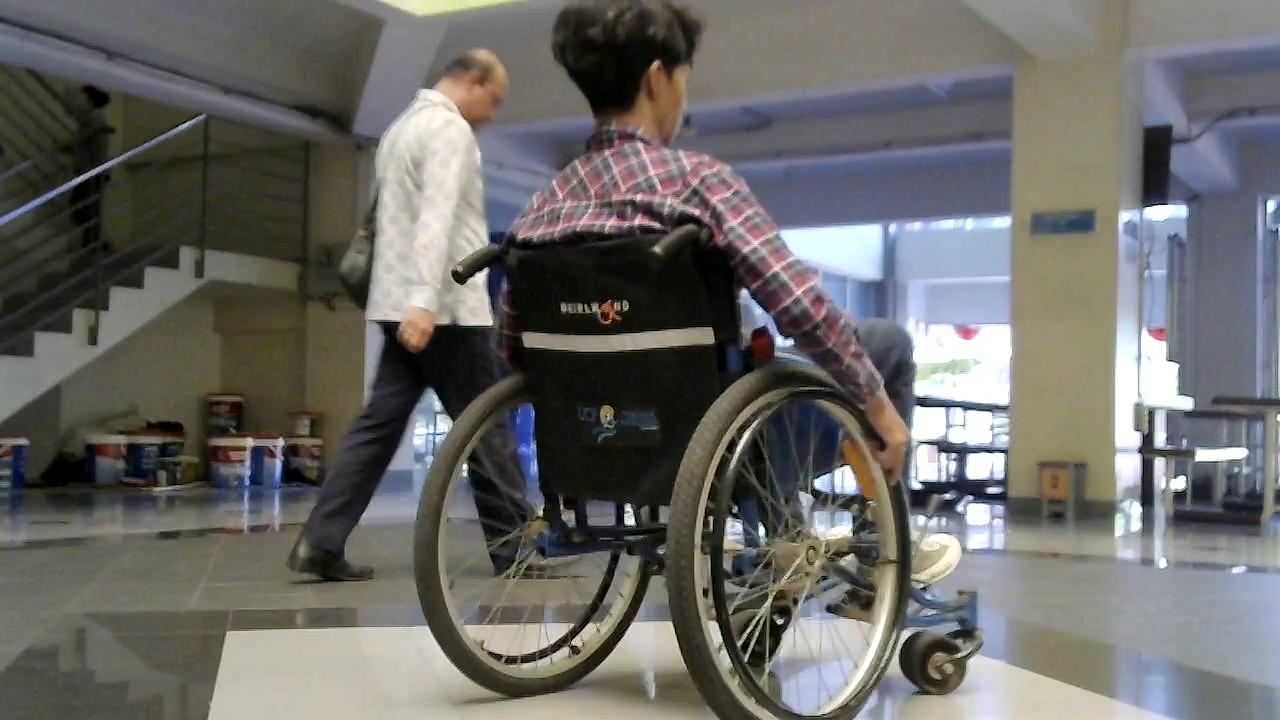person: (436, 2, 907, 708), (446, 2, 909, 484), (283, 46, 513, 584)
wheelchair: (402, 208, 1014, 720)
